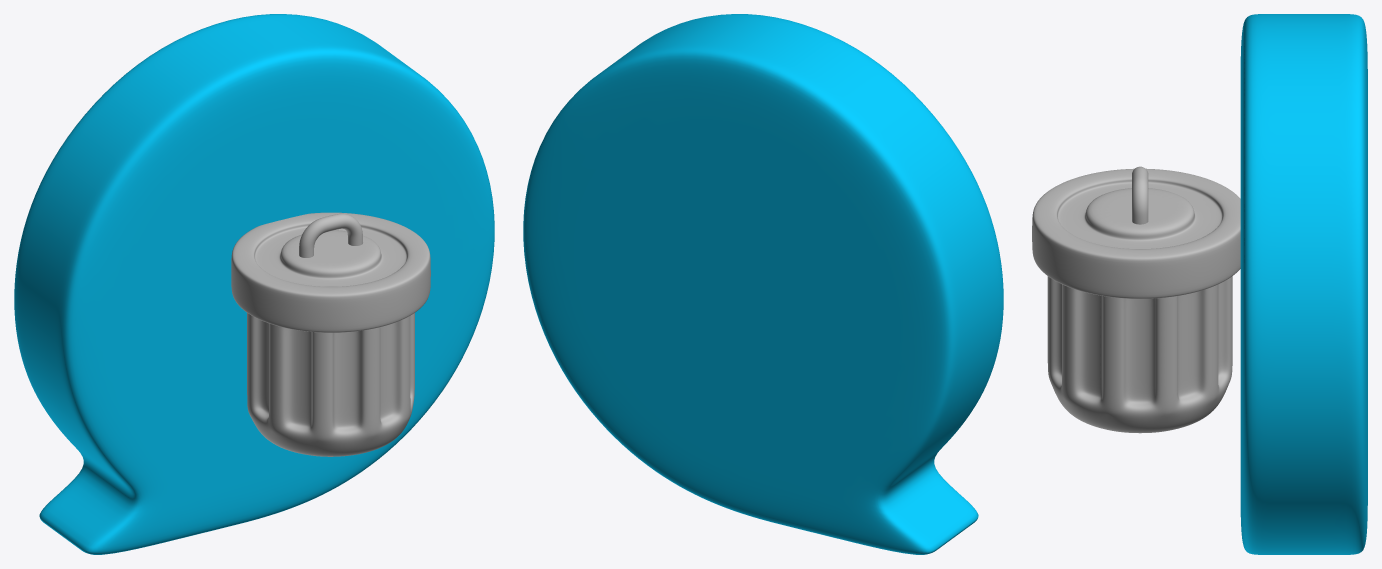
Rendered from delete-chat-animated-3d-icon-1239708253505.glb.
3 views of the same model, side by side, from view 1: azimuth 30°, elevation 25°; view 2: azimuth 150°, elevation 25°; view 3: azimuth 270°, elevation 25° (orthographic). The views are drawn at different scales.
Visible parts, largest first — view 1: Bubble Chat.005, Cap, Trash; view 2: Bubble Chat.005; view 3: Bubble Chat.005, Trash, Cap.
Part boxes in pixels (left/top/right/bottom): Bubble Chat.005: left=14, top=14, right=494, bottom=554; Cap: left=231, top=212, right=430, bottom=332; Trash: left=247, top=313, right=414, bottom=456; Bubble Chat.005: left=523, top=14, right=1003, bottom=554; Bubble Chat.005: left=1240, top=14, right=1367, bottom=554; Trash: left=1047, top=276, right=1232, bottom=433; Cap: left=1032, top=166, right=1240, bottom=298.
Bounding box in the file's own units: 1.92 × 1.95 × 1.19.
